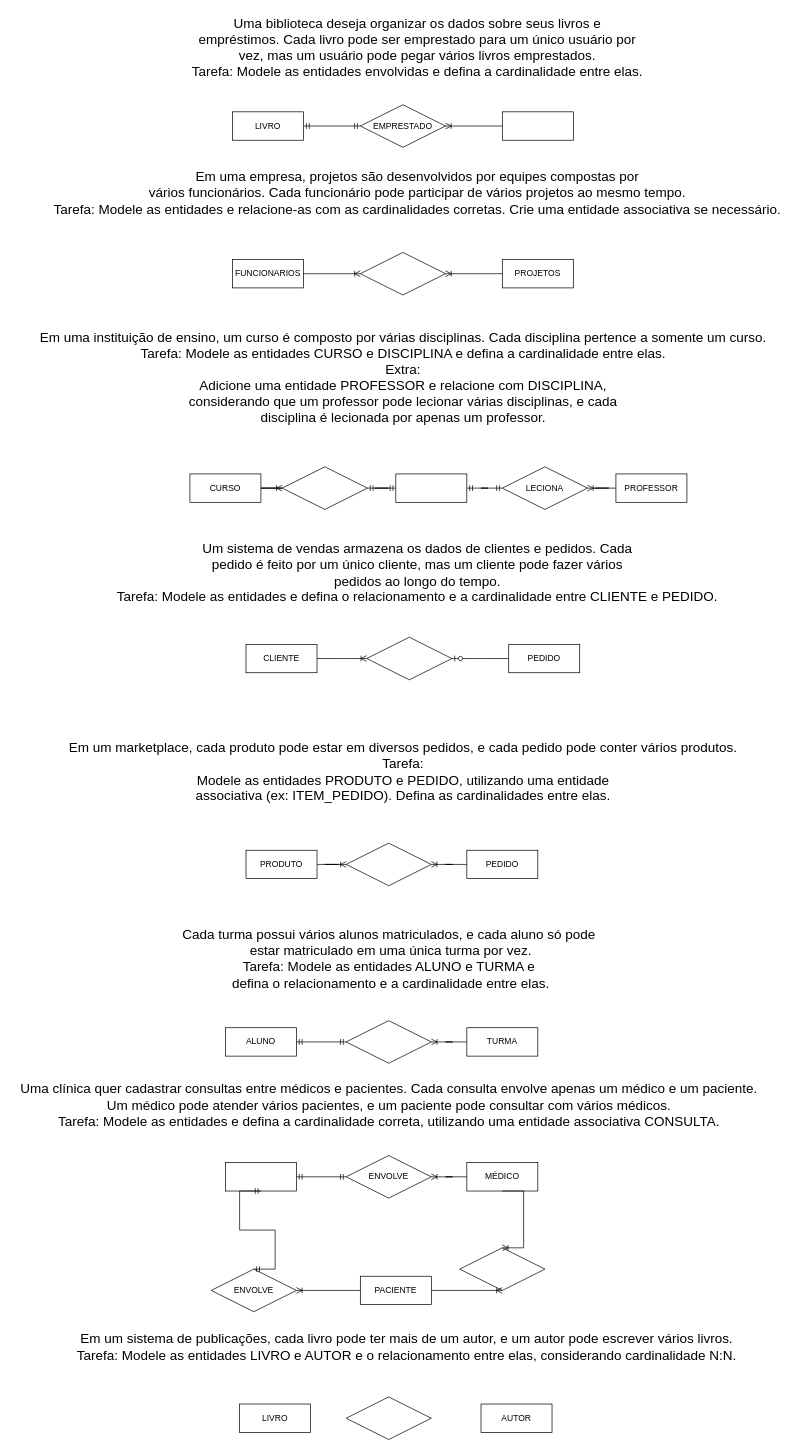
Image size: 802x1452. Some labels were removed from this diagram. Each missing label, with the centre of its shape:
"ATENDE" belongs at (502,1268).
"COMPOSTO" belongs at (324,487).
"CONSULTA" belongs at (260,1176).
"DISCIPLINA" belongs at (431,487).
"ESTA" belongs at (388,864).
"FAZ" belongs at (409,658).
"PARTICIPA" belongs at (403,273).
"Relationship" belongs at (388,1041).
"TEM" belongs at (388,1418).
"USUÁRIO" belongs at (537,125).
